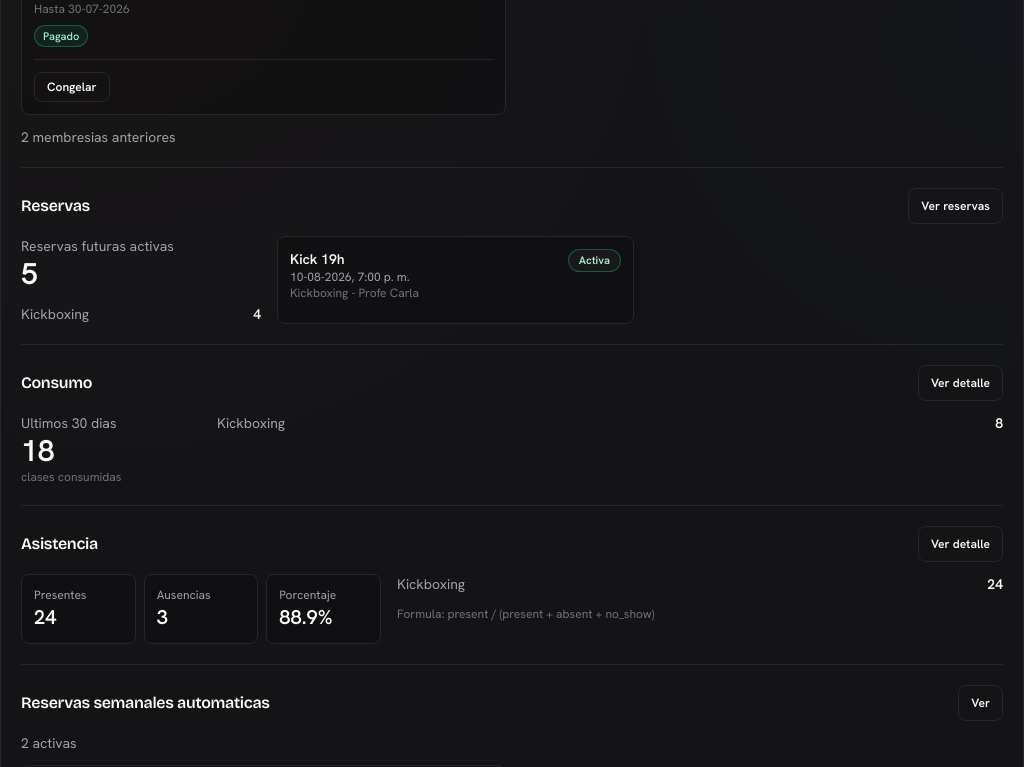
Test case: GymAdminStudentOverviewPage › muestra horario y profesor en consumo sin exponer fecha de consumo ni inscrito por
(page scrolled)
Click the button "Ver detalle" in the row of "Consumo".
click(960, 383)  # box [918,365,1003,401]
(page scrolled)
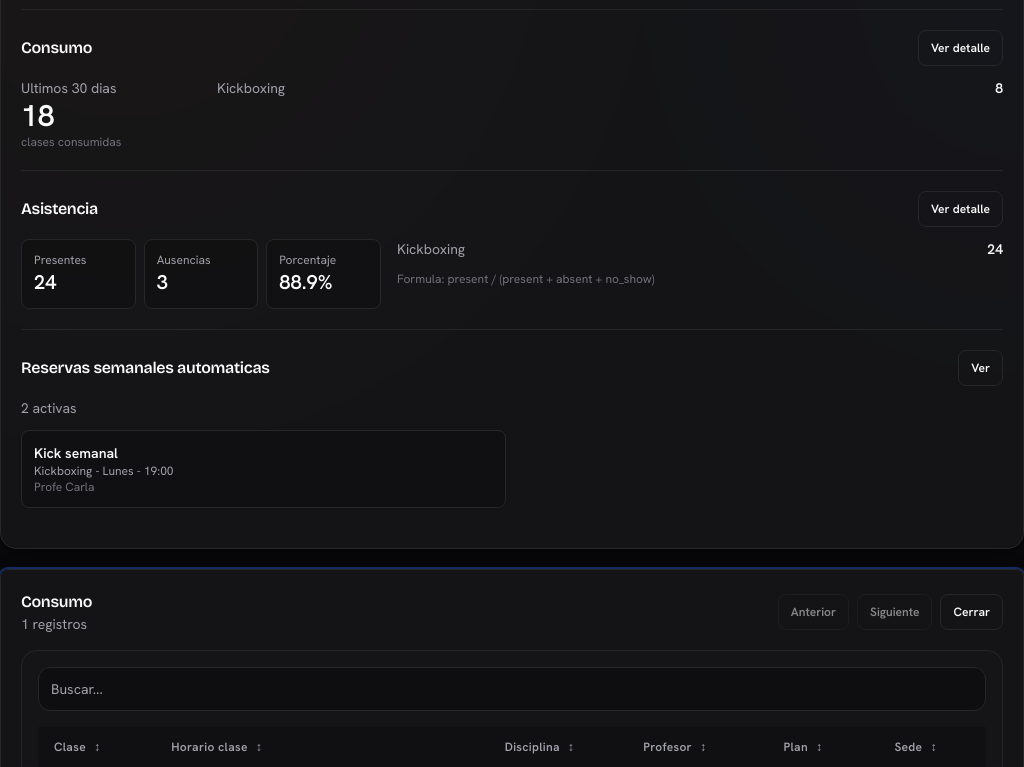
Expected: the text "Profe Carla" is shown, [34,479,94,495]
Expected: the text "Horario clase" is shown, [171,739,248,755]
Expected: the text "Profesor" is shown, [643,739,692,755]
